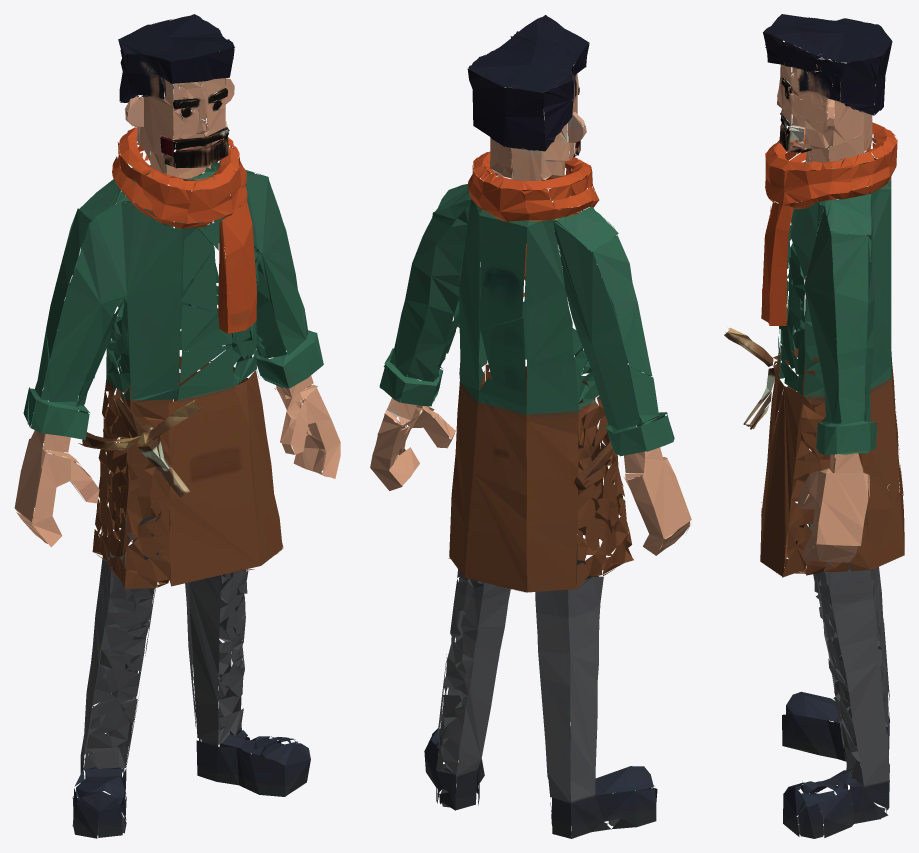
Rendered from habitant.glb.
3 views of the same model, side by side, from view 1: azimuth 30°, elevation 25°; view 2: azimuth 150°, elevation 25°; view 3: azimuth 270°, elevation 25° (orthographic).
Parts seen in each view (by area): view 1: world; view 2: world; view 3: world.
Part boxes in pixels (x1,y1,x2,y2): world: [14, 14, 340, 838]; world: [370, 15, 691, 838]; world: [724, 14, 904, 838].
Bounding box in the file's own units: 0.4205 × 1.01 × 0.2195.
Materials: 1 (1 with a texture image).
